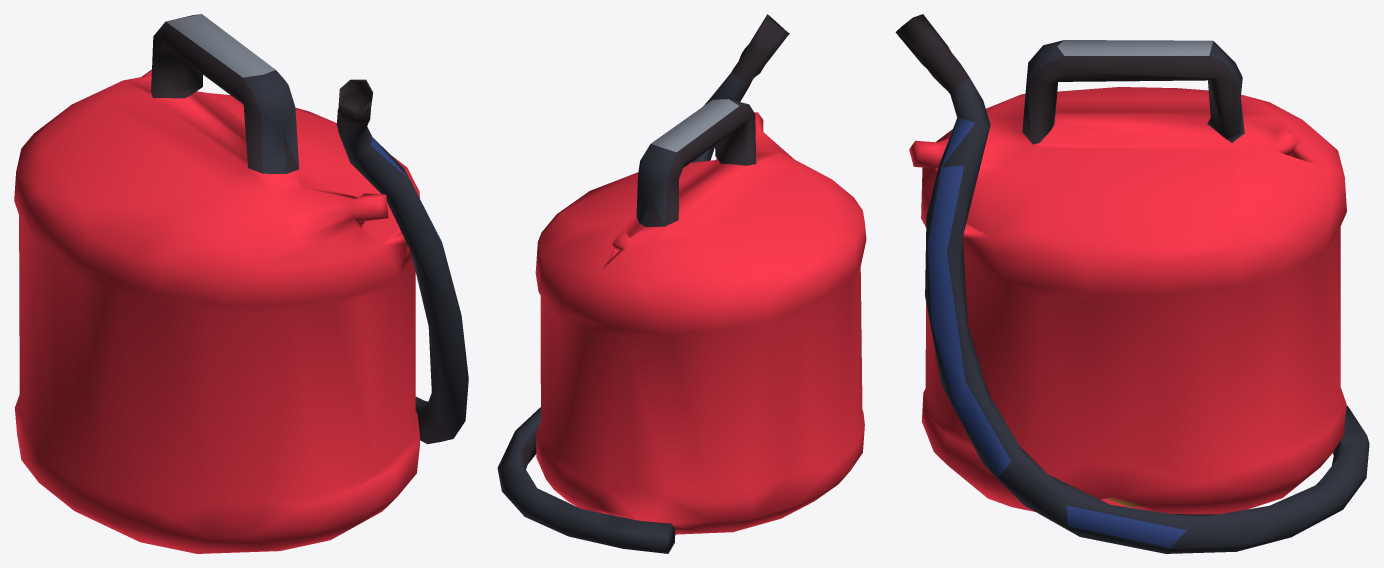
File: SM_gas_cylinder_red_b.fbx
3 renders of one model, left to right at view 1: azimuth 30°, elevation 25°; view 2: azimuth 150°, elevation 25°; view 3: azimuth 270°, elevation 25°, orthographic. The views are drawn at different scales.
Visible parts, largest first — view 1: SM_gas_cylinder_red_b; view 2: SM_gas_cylinder_red_b; view 3: SM_gas_cylinder_red_b.
Boxes of the visible parts, x1=… form: SM_gas_cylinder_red_b: x1=14, y1=14, x2=468, y2=553; SM_gas_cylinder_red_b: x1=497, y1=14, x2=866, y2=553; SM_gas_cylinder_red_b: x1=895, y1=14, x2=1369, y2=553.
Size of the model in its own units: 49.09 by 60 by 55.94.
Materials: 1 (1 with a texture image).
